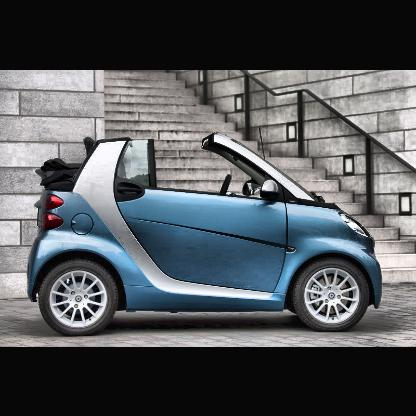smart fortwo Convertible 2012: (28, 132, 387, 337)
